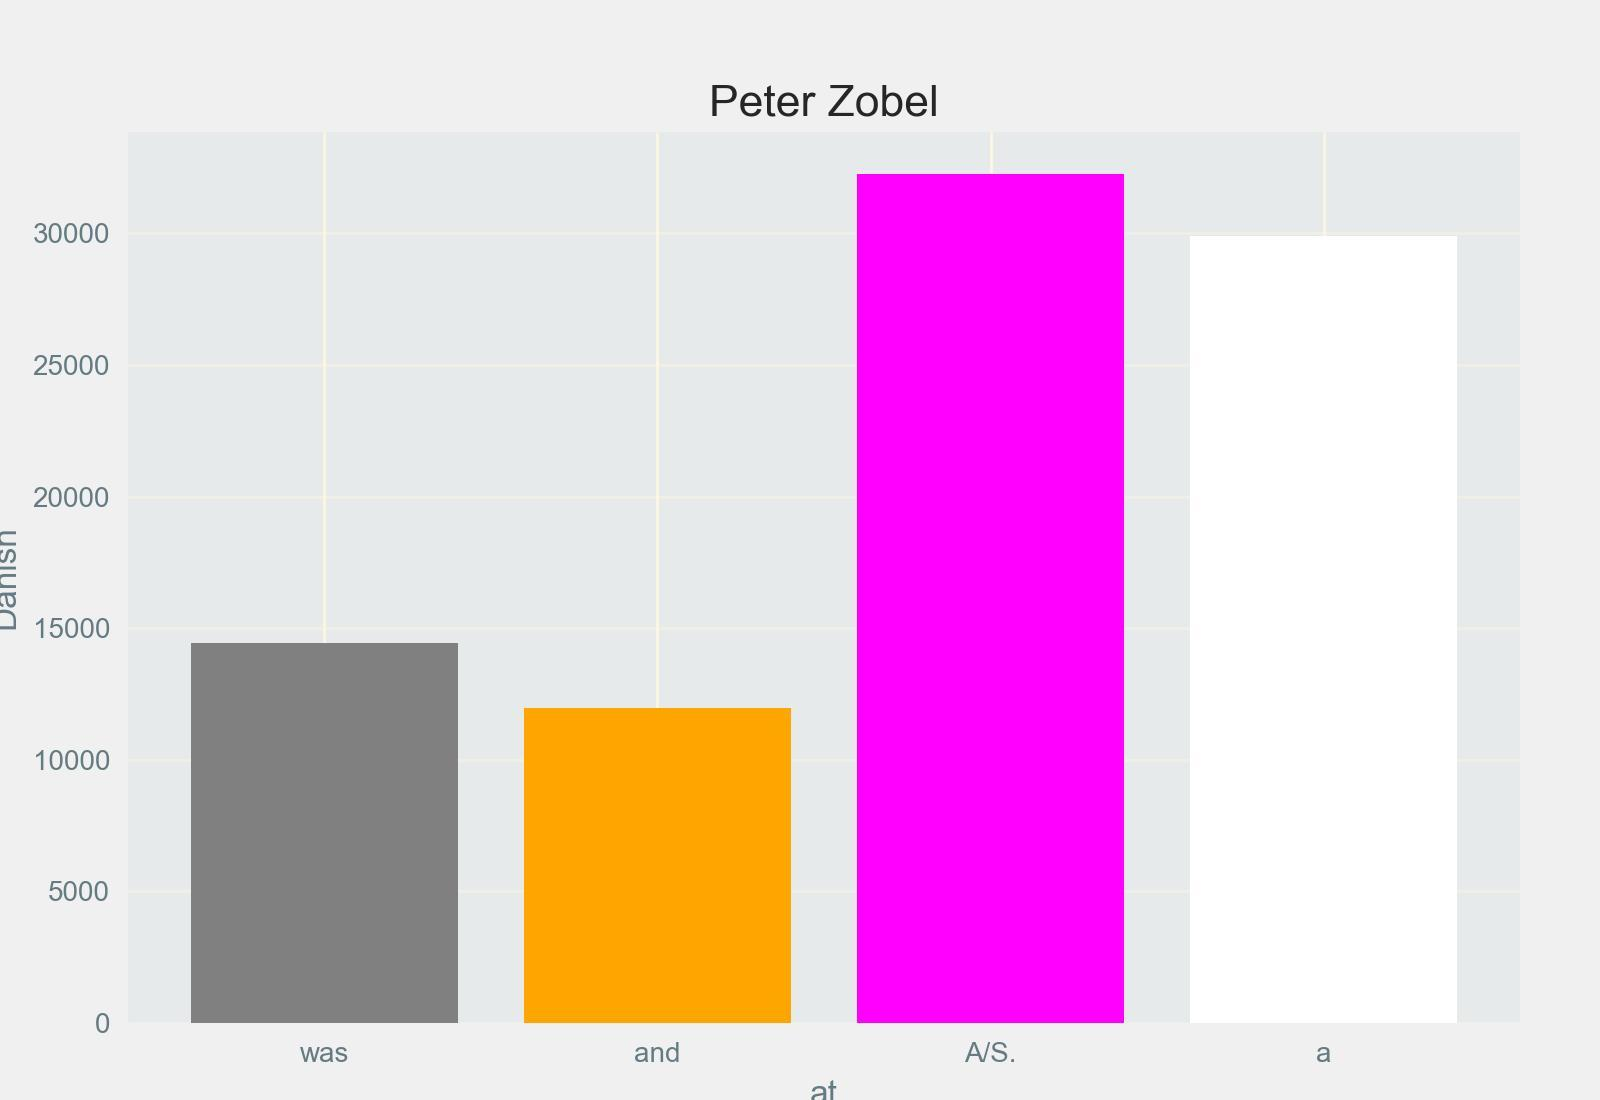axis: (0, 223, 110, 1039)
rectangle: (857, 174, 1124, 1023), (1190, 236, 1456, 1023), (192, 643, 458, 1023), (524, 708, 790, 1023)
